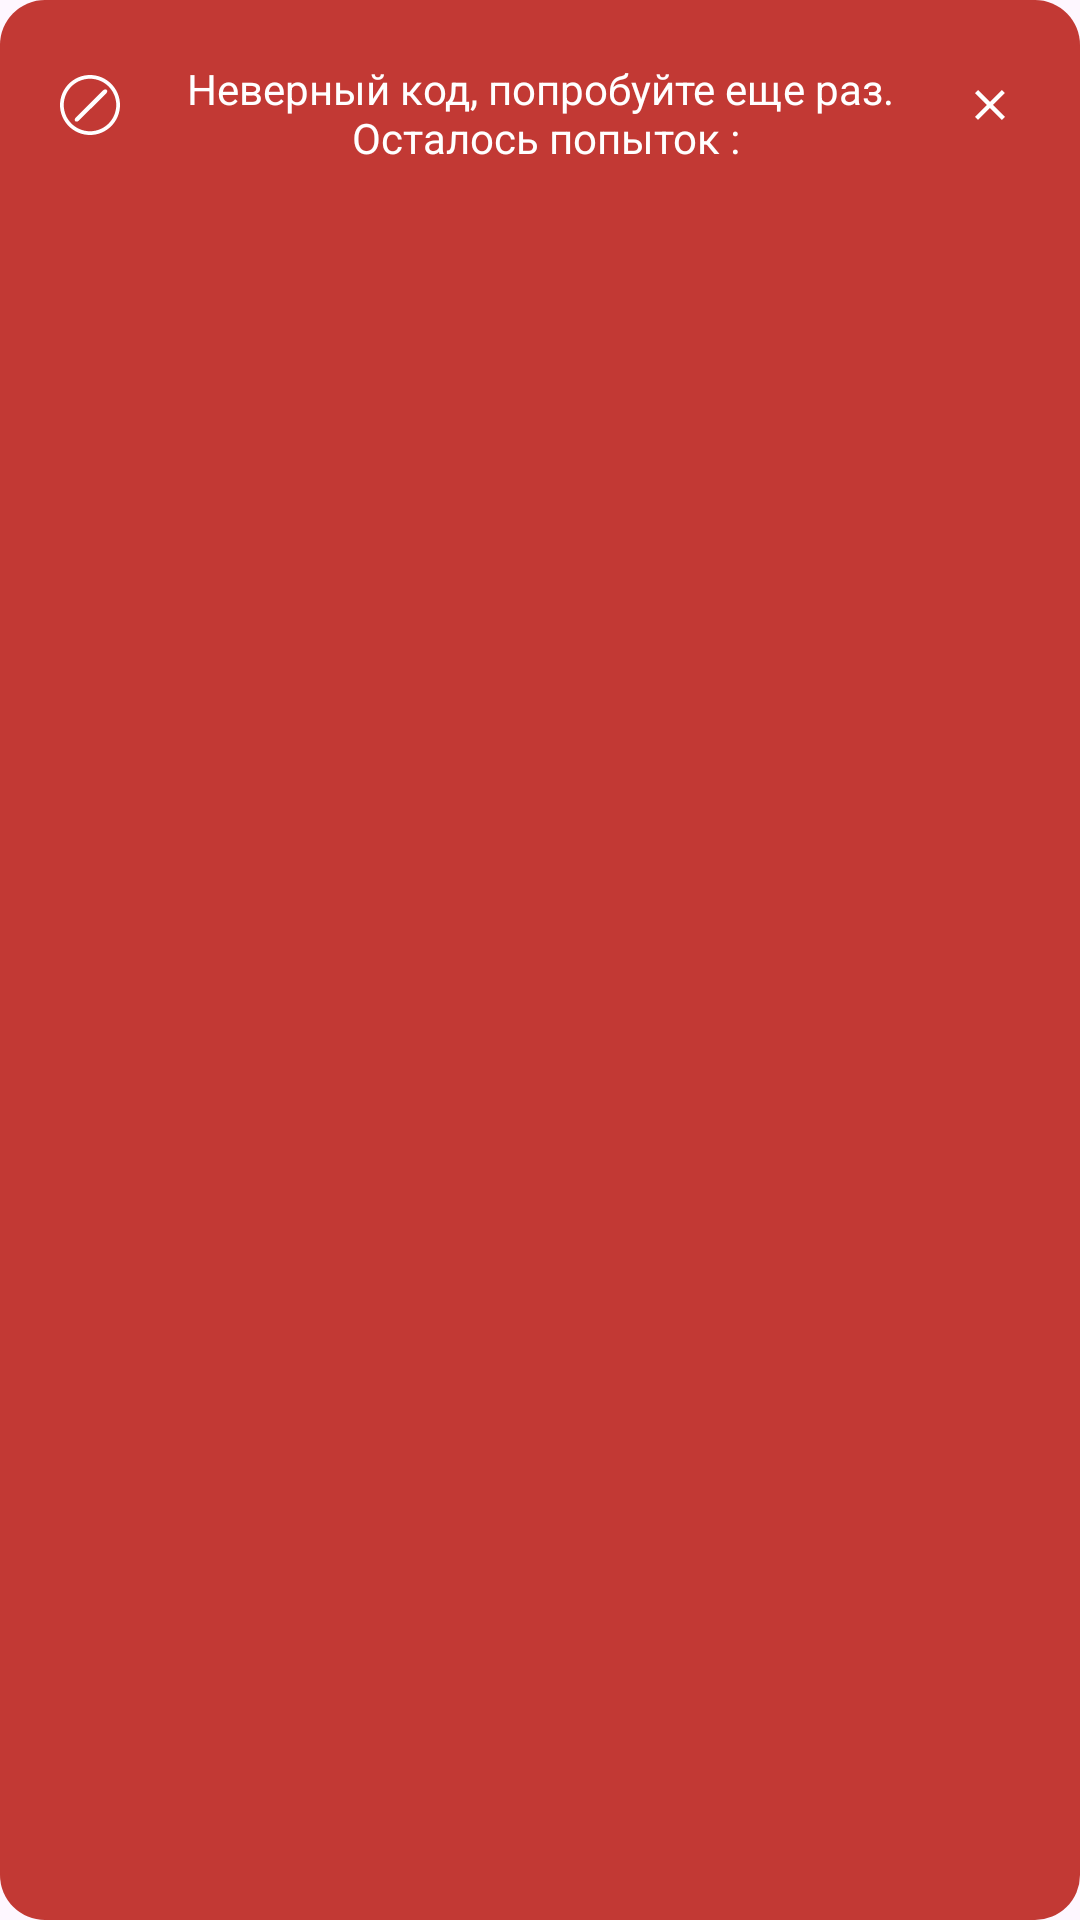

Where icons sit on this 1080 x 1920 app screen, as detection(x1, y1, x2, y2):
circle error: detection(60, 75, 120, 135)
close: detection(975, 90, 1005, 120)
